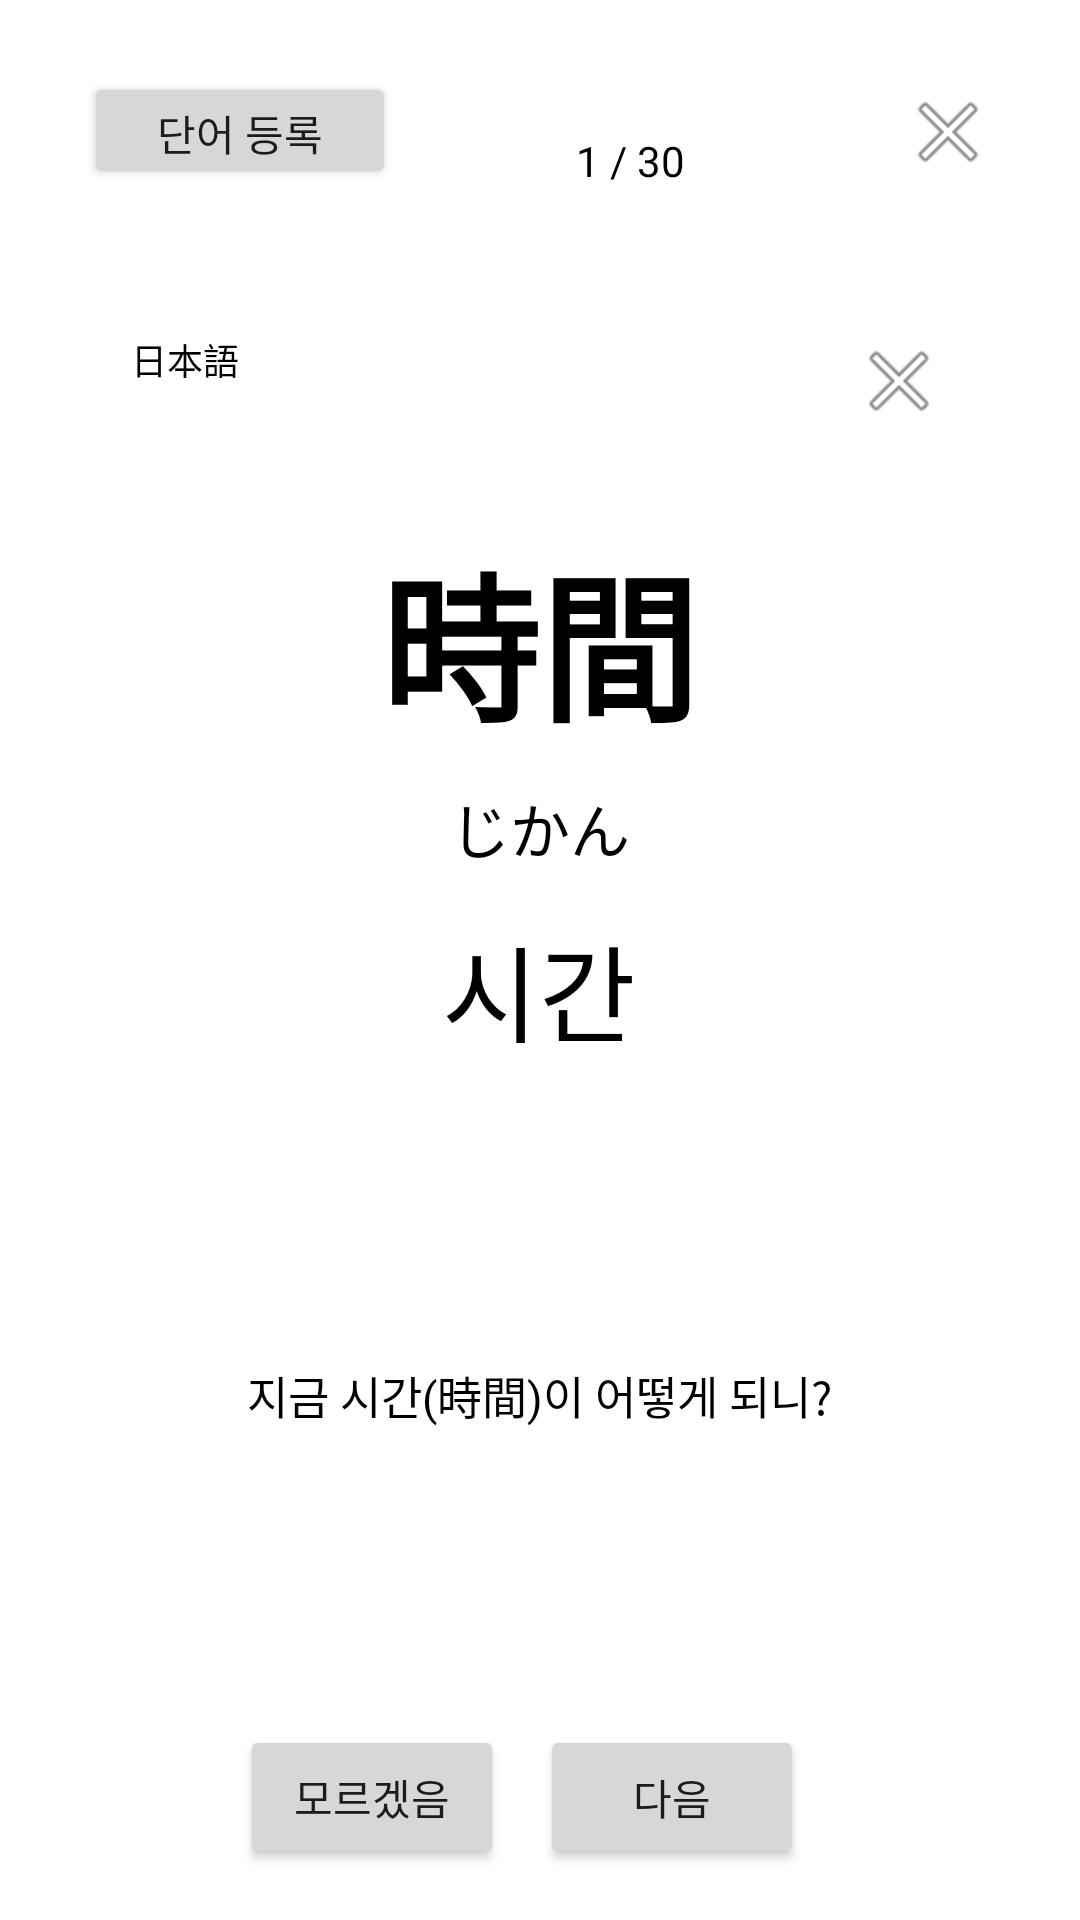

Where to tap for icons on this 1080*1920 app screen, as (x=x, y=y):
close clear cancel: (x=948, y=132), (x=899, y=381)
